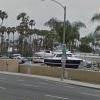Boat: (37, 49, 82, 70)
